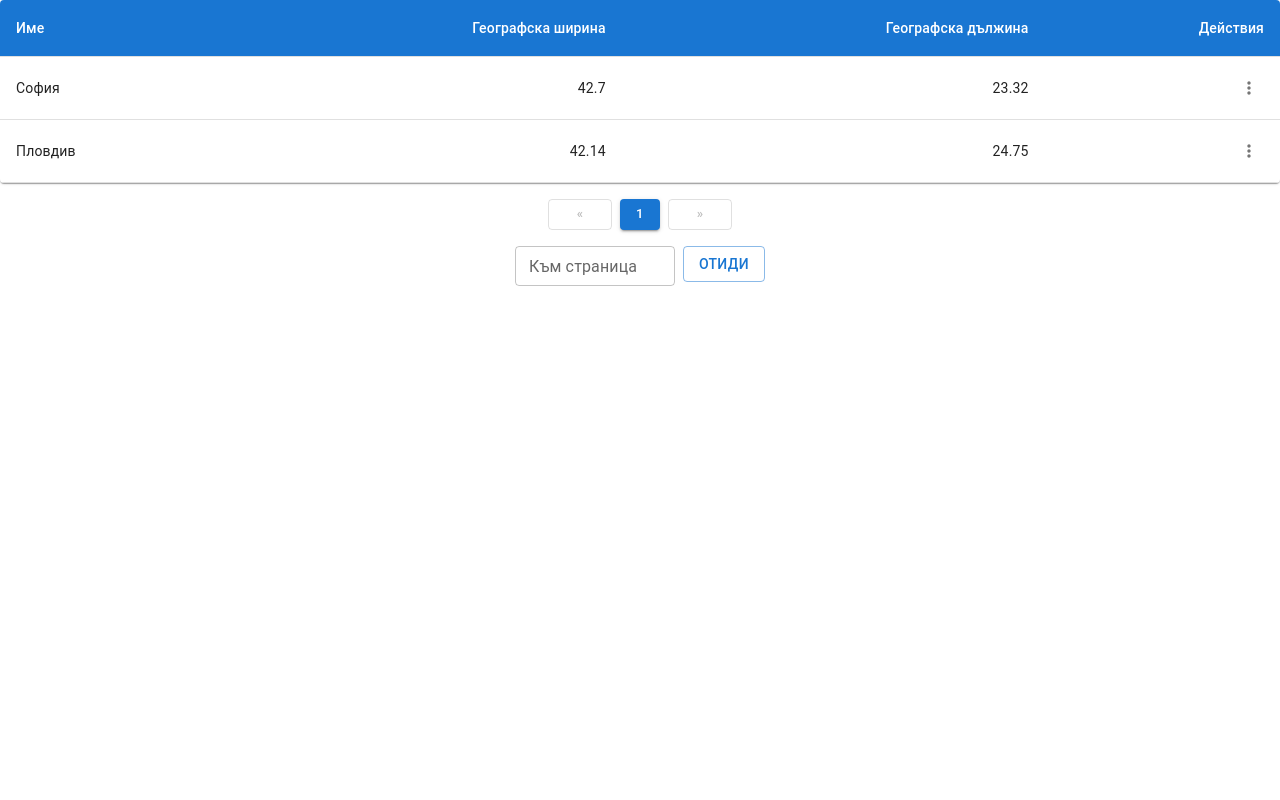
Test: SettlementsTable › surfaces a generic error and keeps the parent untouched when deletion fails
Click the button named "Действия за София" at [1249, 88], box [1234, 73, 1264, 103]
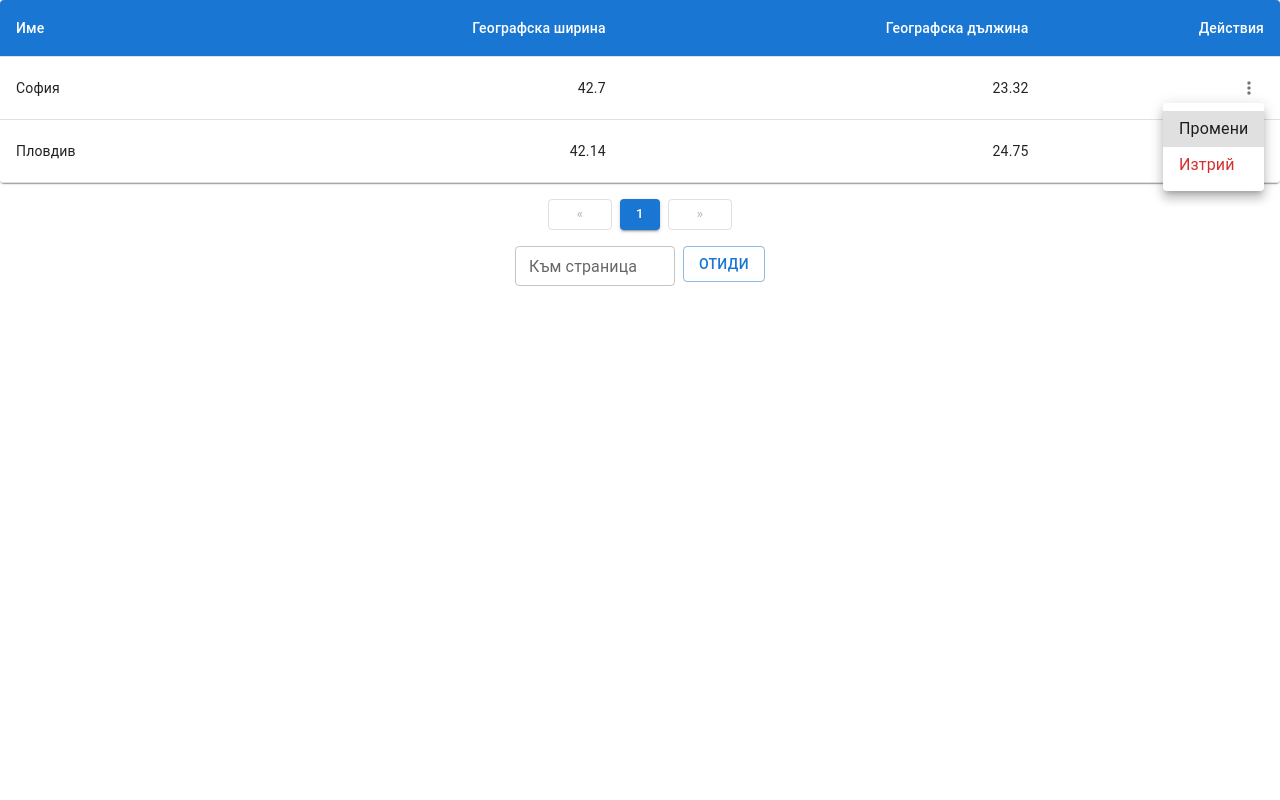
Click the menu item with aria-label "Изтрий София" at [1207, 164], box [1179, 155, 1235, 174]
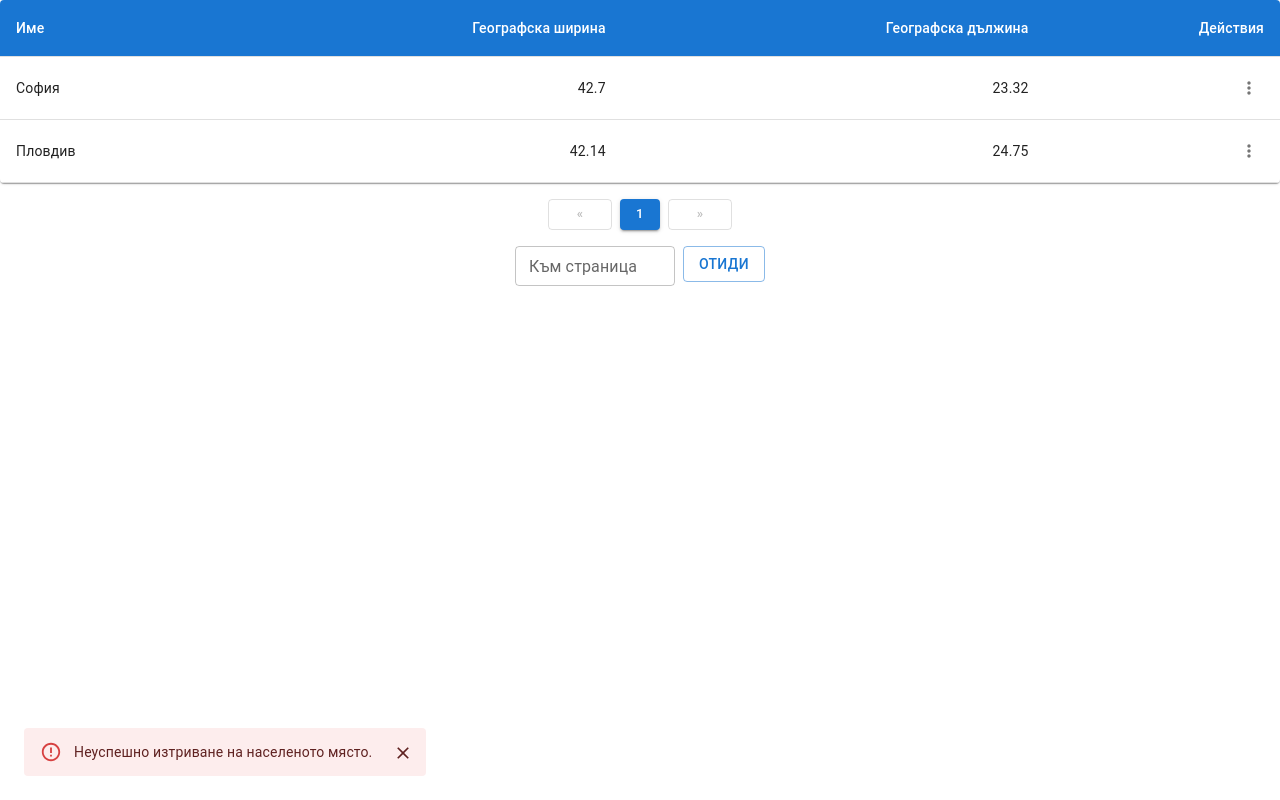
Now the text "Неуспешно изтриване на населеното място." is shown, box [74, 744, 372, 760]
